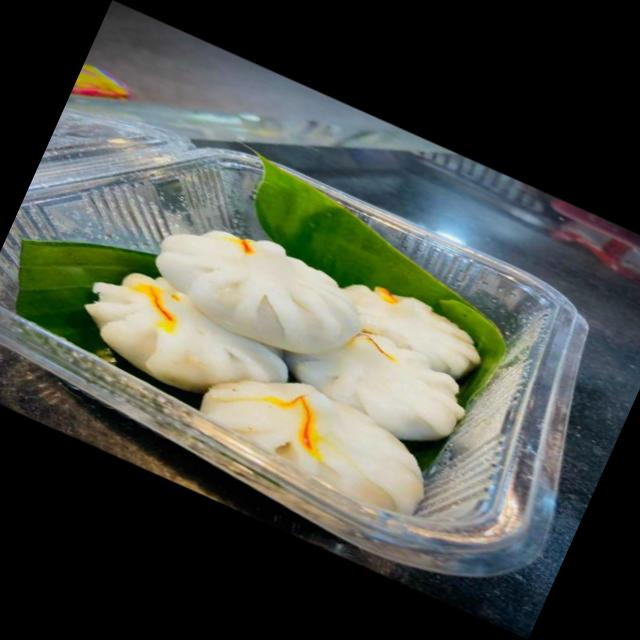modak: (116, 223, 441, 474)
